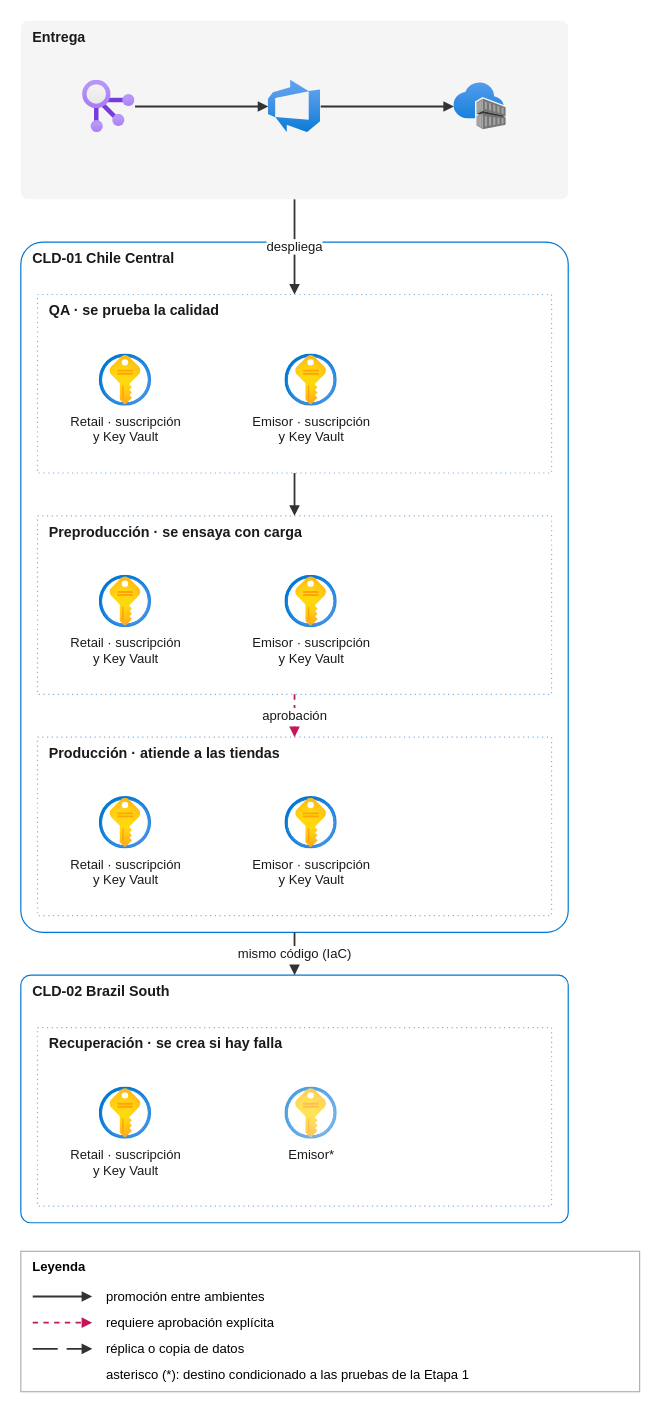
The diagram is 660 pixels wide and 1413 high, and some of its shapes have lost their labels. Here are the shapes that lost their labels. From the top down, the centre of each, then its label:
At pixel 108 106: "Repositorio del código".
At pixel 294 106: "Entrega continua (revisión y firma)".
At pixel 479 106: "Registro de imágenes".
